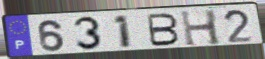1: (113, 14, 136, 50)
2: (222, 8, 254, 44)
3: (72, 15, 106, 52)
6: (37, 18, 66, 53)
B: (146, 12, 181, 48)
H: (178, 8, 223, 48)
